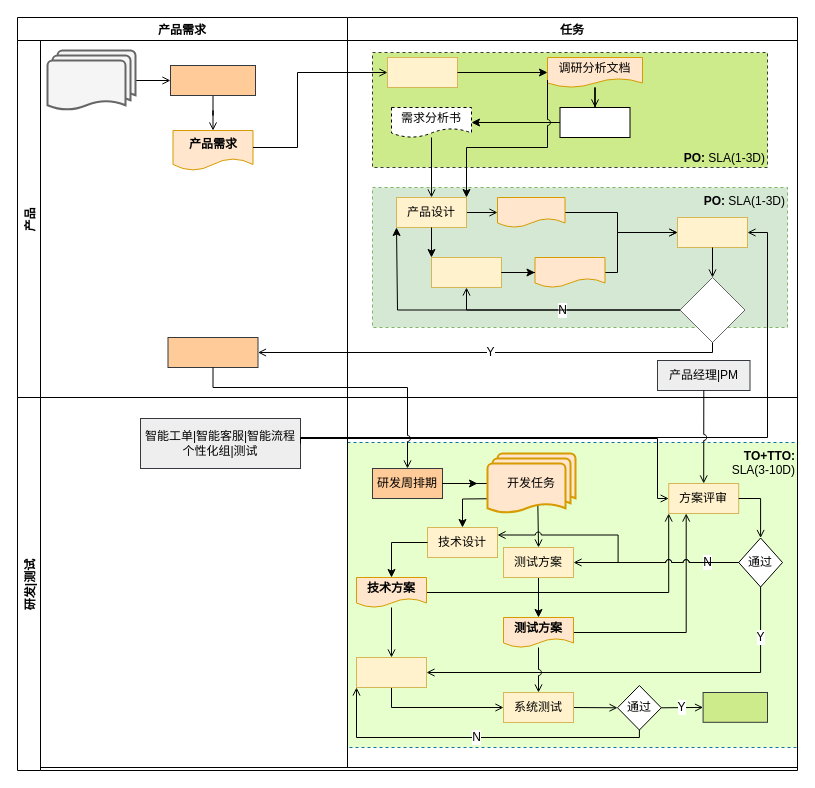
This 815x788 diagram has some shape labels left out. Each missing label, with the centre of its shape:
"PL:需求排期" goes at point (212, 352).
"PL:需求月规划" goes at point (213, 80).
"PRD" goes at point (530, 212).
"UI设计" goes at point (466, 272).
"上线发布" goes at point (735, 707).
"业务需求池" goes at point (91, 80).
"原型&UI" goes at point (569, 272).
"编码&自测" goes at point (391, 672).
"设计评审" goes at point (712, 232).
"通过？" goes at point (712, 309).
"需求分析" goes at point (594, 122).
"需求调研" goes at point (422, 72).
